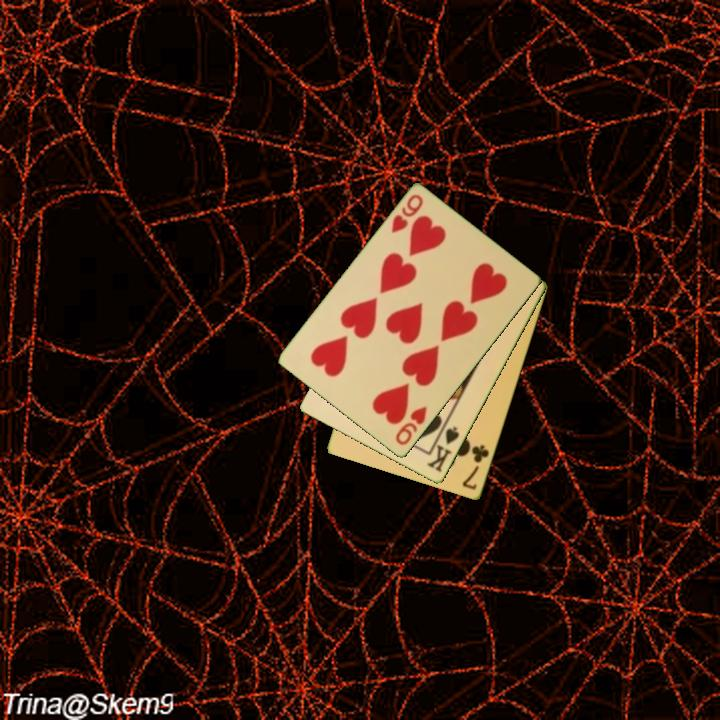7c: (459, 442, 492, 493)
9h: (392, 403, 430, 449), (388, 191, 426, 237)
Ks: (423, 423, 463, 475)
